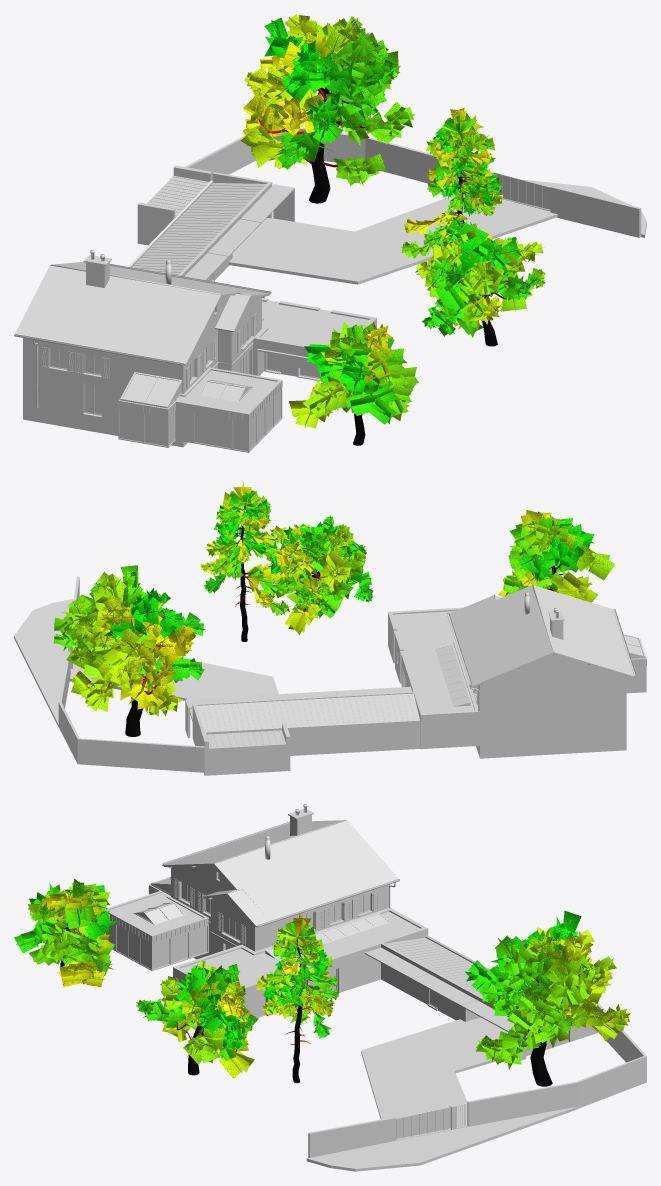
Rendered from altdorf_Projet_v7_D2_vieille_maison.fbx.
3 views of the same model, one above another, from view 1: azimuth 30°, elevation 25°; view 2: azimuth 150°, elevation 25°; view 3: azimuth 270°, elevation 25° (orthographic). The views are drawn at different scales.
Visible parts, largest first — view 1: Circle.002, oak 2.018, Plane.022, oak 4.012, maple 3.016, Plane.1436, pine 2.015, Plane.005; view 2: Circle.002, oak 2.018, oak 4.012, Plane.022, maple 3.016, pine 2.015, Plane.1436; view 3: Circle.002, oak 2.018, Plane.022, oak 4.012, Plane.1436, maple 3.016, pine 2.015, Plane.005.
Part boxes in pixels (x1,y1,x2,y2): Circle.002: (14,165,376,452); oak 2.018: (241,14,414,203); Plane.022: (229,179,646,284); oak 4.012: (415,216,545,346); maple 3.016: (289,322,418,445); Plane.1436: (185,127,641,237); pine 2.015: (401,107,503,258); Plane.005: (489,171,550,209); Circle.002: (185,585,646,775); oak 2.018: (53,565,205,736); oak 4.012: (266,515,372,634); Plane.022: (14,598,278,726); maple 3.016: (498,510,615,602); pine 2.015: (200,481,297,641); Plane.1436: (58,576,204,772); Circle.002: (104,804,598,1060); oak 2.018: (465,911,630,1086); Plane.022: (306,1017,577,1171); oak 4.012: (136,960,258,1078); Plane.1436: (308,1003,646,1158); maple 3.016: (14,879,117,987); pine 2.015: (256,913,338,1083); Plane.005: (396,1103,467,1139).
Bounding box in the file's own units: 4669 × 1359 × 4262.
